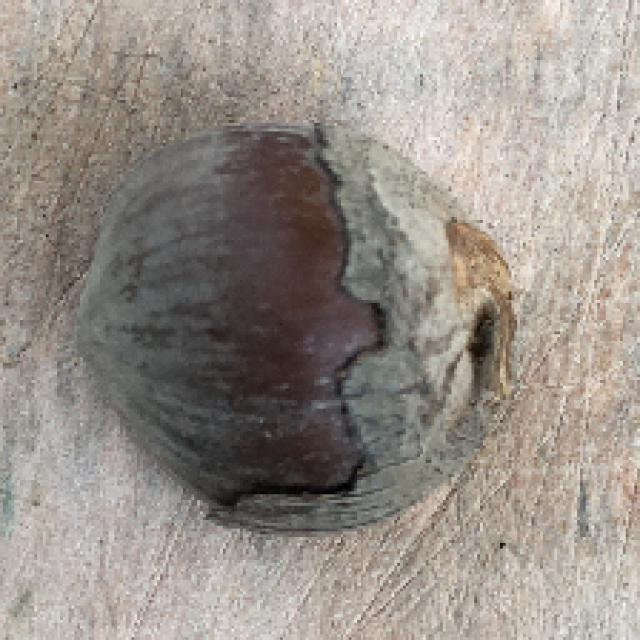damagedHazelnut: (75, 121, 528, 543)
